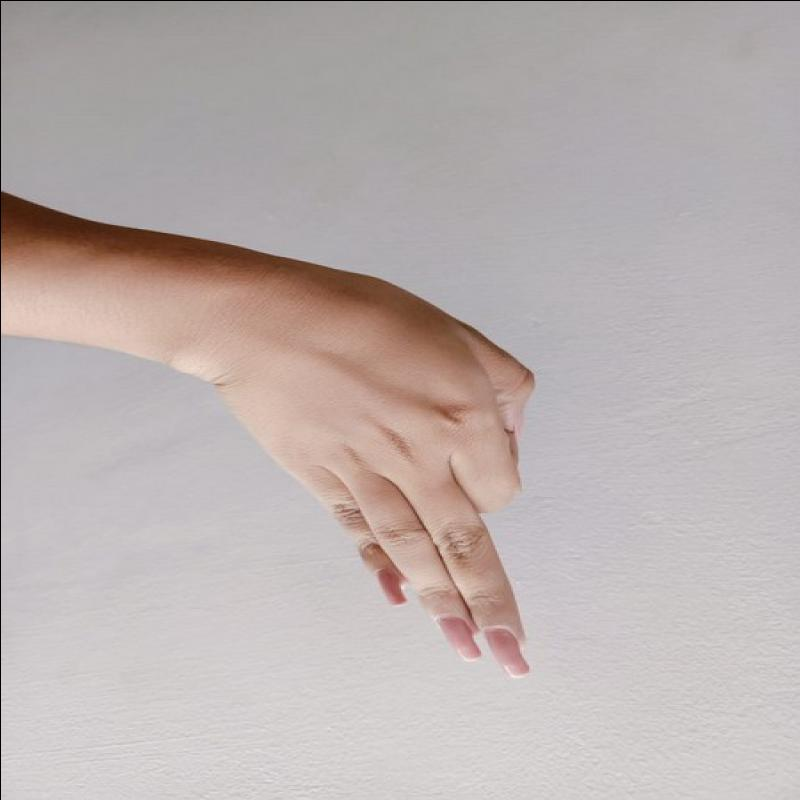Mudraakhyam: (237, 273, 544, 695)
